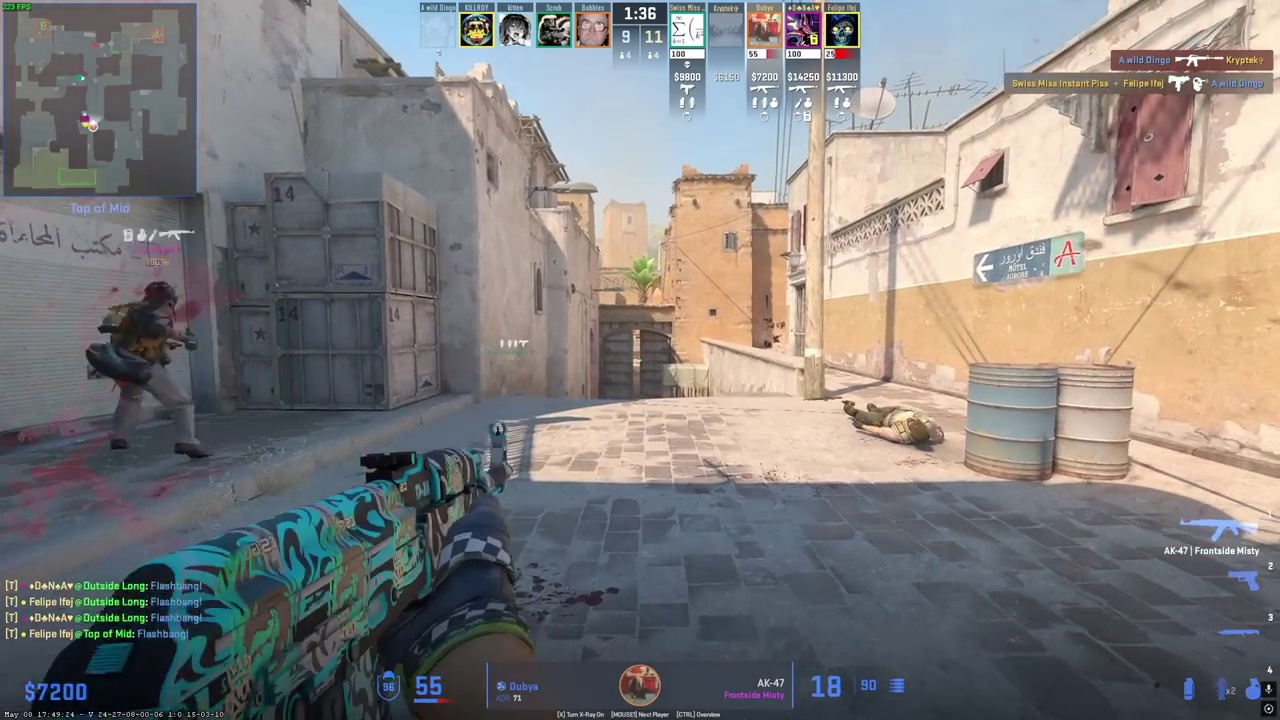Terrorist: (100, 281, 211, 459)
